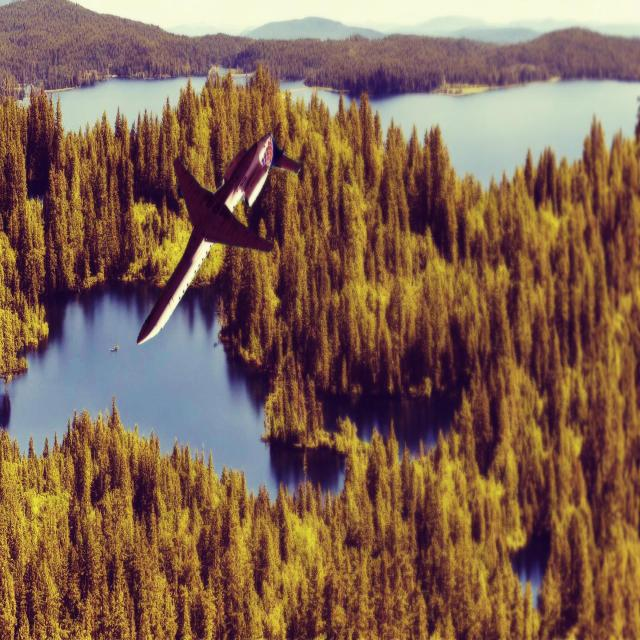airplane: (136, 131, 301, 345)
